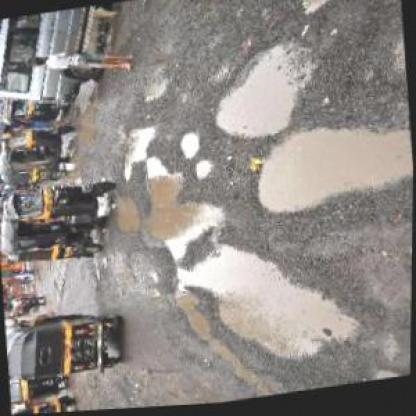pothole: (158, 229, 363, 385), (247, 119, 413, 225), (205, 42, 319, 147), (134, 143, 229, 268), (115, 124, 160, 182), (109, 191, 143, 237), (173, 131, 200, 162), (294, 0, 337, 18), (192, 160, 212, 183)
